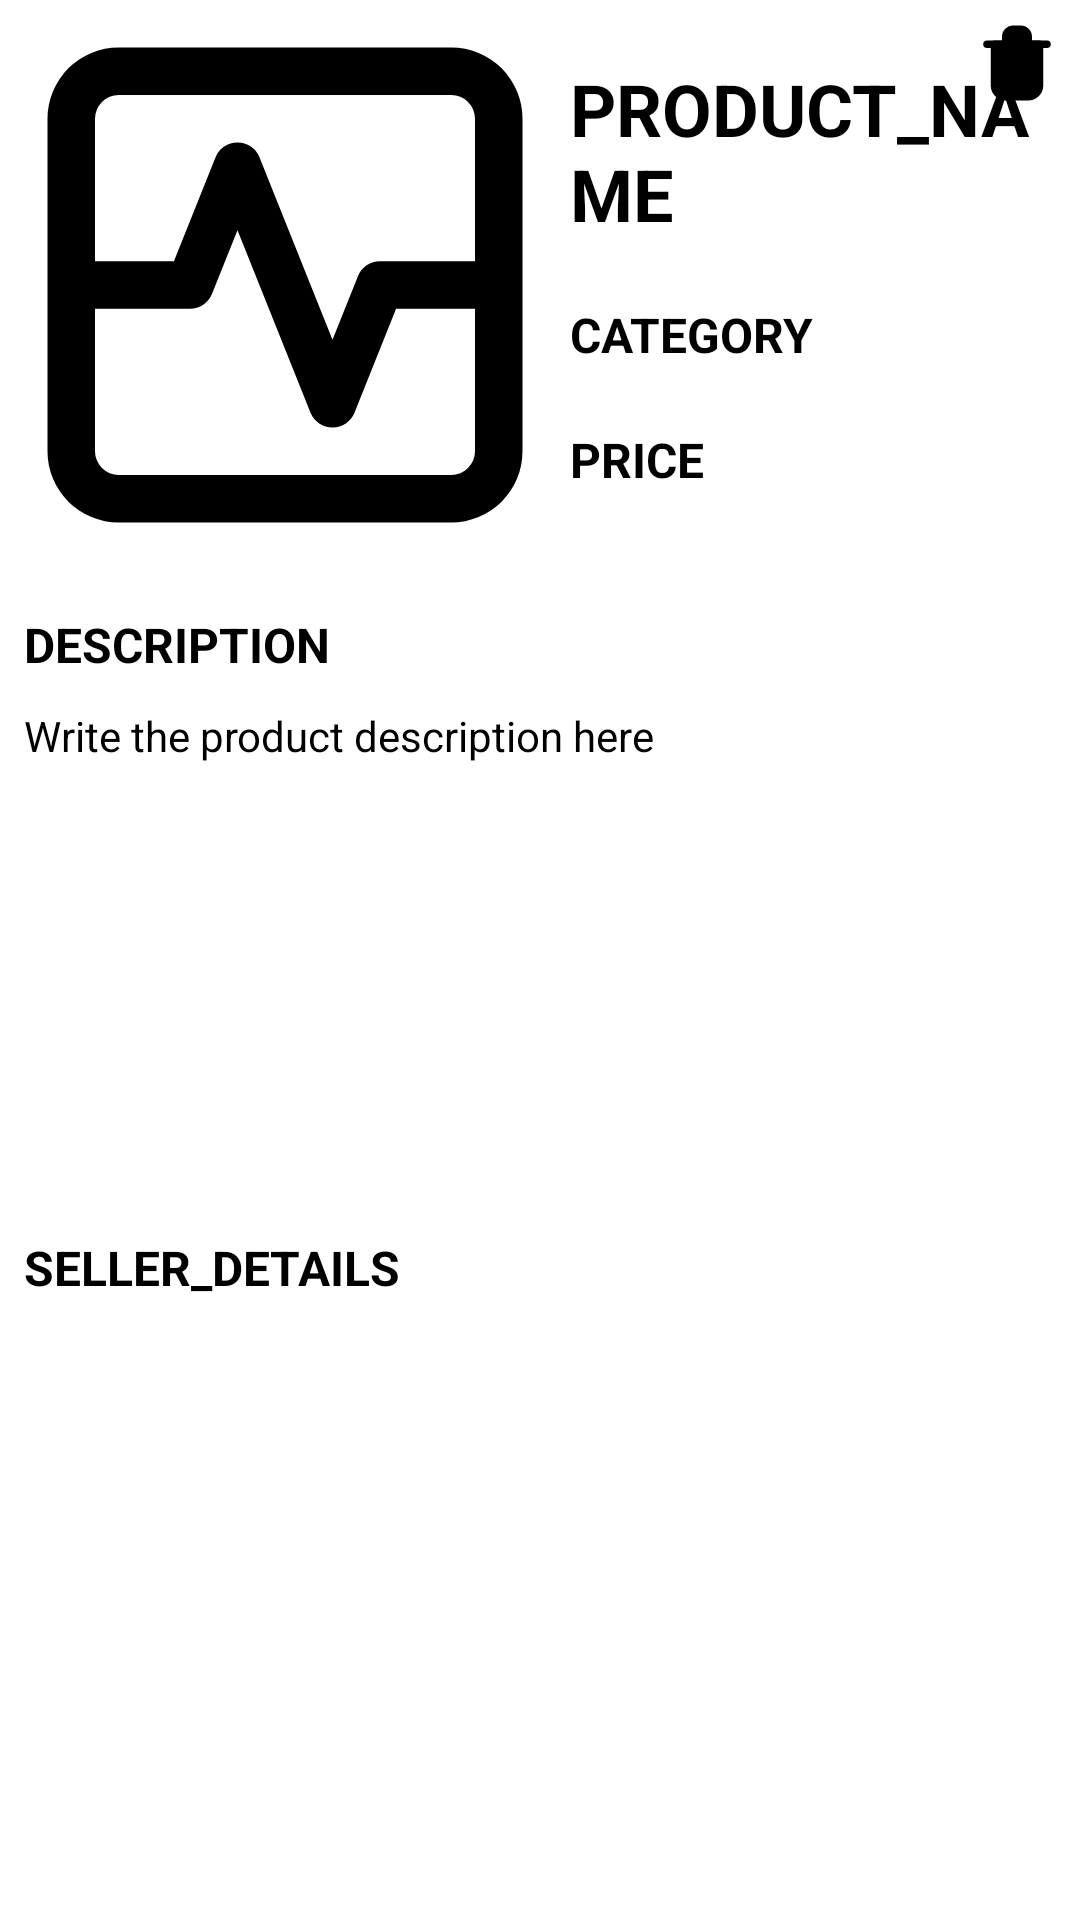

Screen size 1080x1920. Icon name, then its box in pixels as bbox=(x1, y1, x2, y2):
delete: bbox=(972, 25, 1051, 108)
